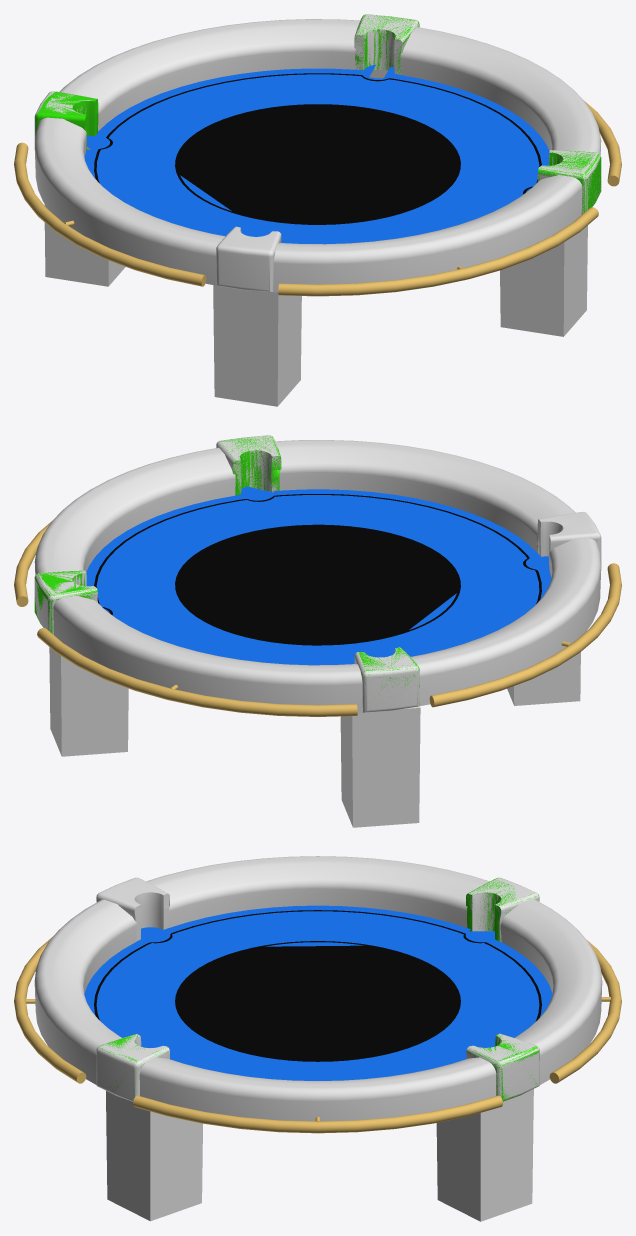
Rendered from CircleBoard.fbx.
3 renders of one model, top to bottom at view 1: azimuth 30°, elevation 25°; view 2: azimuth 150°, elevation 25°; view 3: azimuth 270°, elevation 25°, orthographic.
Visible parts, largest first — view 1: EdgeHighlight, DisplayBaseMat, InnerCircle, HandleRing, Hole1TriggerSide2, Hole2TriggerSide2, Hole4TriggerSide2, Hole1TriggerSide1, Hole2TriggerSide1, HoleGlow3, HoleGlow1, HoleGlow2 (+2 smaller); view 2: EdgeHighlight, DisplayBaseMat, InnerCircle, HandleRing, Hole4TriggerSide4, Hole3TriggerSide4, Hole1TriggerSide4, HoleGlow1, HoleGlow2, Hole4TriggerSide3, OuterCircle, Hole3TriggerSide3 (+1 smaller); view 3: EdgeHighlight, DisplayBaseMat, InnerCircle, HandleRing, Hole3TriggerSide3, Hole2TriggerSide3, Hole2TriggerSide1, Hole3TriggerSide1, OuterCircle, HoleGlow3, HoleGlow2.
Boxes of the visible parts, x1,y1,x2,y2 form: EdgeHighlight: [34, 14, 601, 292]; DisplayBaseMat: [84, 64, 549, 244]; InnerCircle: [175, 104, 460, 224]; HandleRing: [14, 100, 621, 296]; Hole1TriggerSide2: [213, 285, 278, 406]; Hole2TriggerSide2: [500, 242, 564, 336]; Hole4TriggerSide2: [44, 204, 108, 286]; Hole1TriggerSide1: [277, 295, 301, 406]; Hole2TriggerSide1: [563, 225, 587, 336]; HoleGlow3: [35, 91, 98, 150]; HoleGlow1: [537, 150, 601, 213]; HoleGlow2: [355, 14, 419, 74]; EdgeHighlight: [34, 435, 601, 713]; DisplayBaseMat: [86, 486, 551, 665]; InnerCircle: [175, 524, 460, 645]; HandleRing: [14, 521, 621, 716]; Hole4TriggerSide4: [352, 707, 420, 827]; Hole3TriggerSide4: [61, 656, 128, 756]; Hole1TriggerSide4: [514, 652, 580, 705]; HoleGlow1: [219, 435, 281, 495]; HoleGlow2: [34, 570, 97, 634]; Hole4TriggerSide3: [340, 716, 352, 826]; OuterCircle: [94, 494, 541, 614]; Hole3TriggerSide3: [49, 647, 61, 755]; EdgeHighlight: [34, 856, 602, 1121]; DisplayBaseMat: [84, 905, 552, 1080]; InnerCircle: [175, 941, 460, 1061]; HandleRing: [14, 936, 621, 1133]; Hole3TriggerSide3: [480, 1089, 533, 1221]; Hole2TriggerSide3: [150, 1111, 202, 1221]; Hole2TriggerSide1: [106, 1091, 150, 1220]; Hole3TriggerSide1: [436, 1113, 480, 1221]; OuterCircle: [94, 910, 541, 1021]; HoleGlow3: [466, 878, 538, 941]; HoleGlow2: [466, 1034, 539, 1101].
Bounding box in the file's own units: 2.42 × 0.7096 × 2.42.
